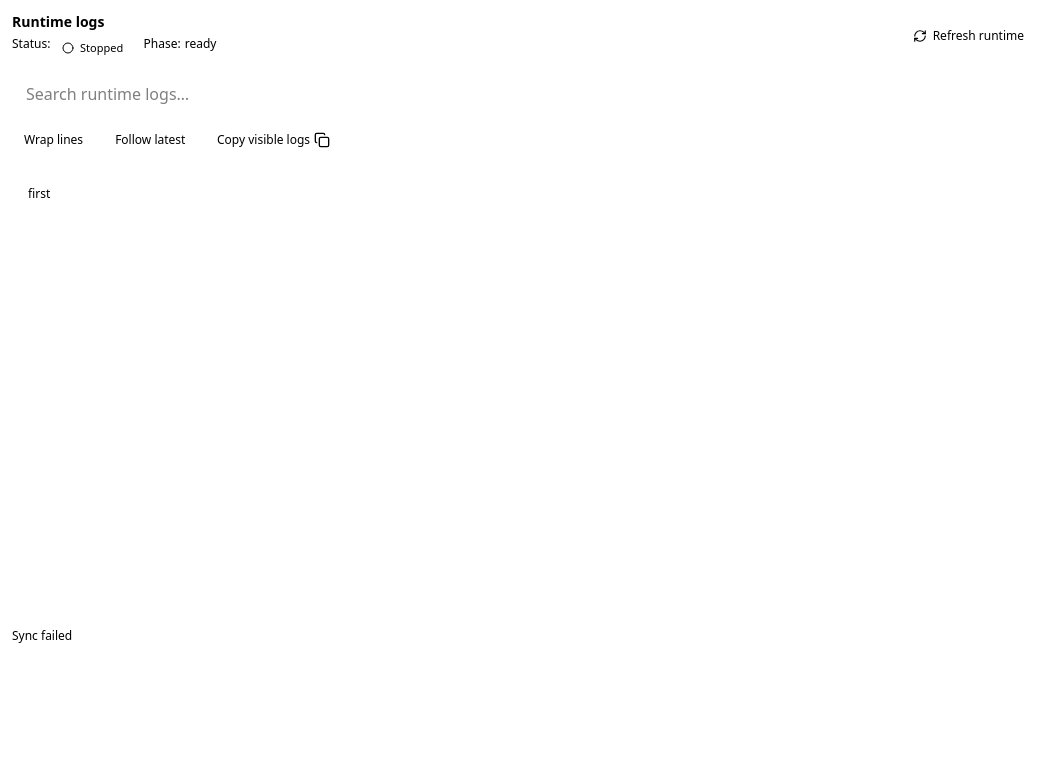
it: ContainerLogs › retains output on network failure and allows a manual terminal-state retry
Check: the text "Sync failed" is shown, box x1=12 y1=627 x2=72 y2=644
Check: the element showing "first" is shown, box x1=28 y1=185 x2=50 y2=202
Click the button "Refresh runtime".
click(968, 36)  # box x1=901 y1=20 x2=1036 y2=52
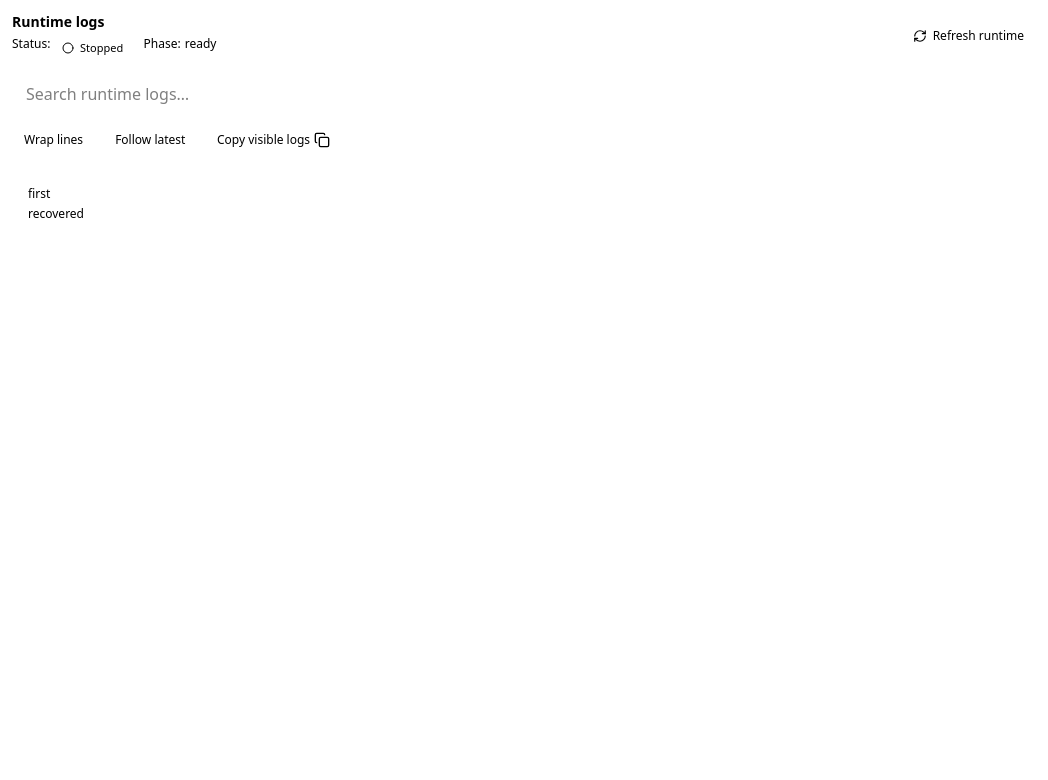
Check: the text "Sync failed" is gone
